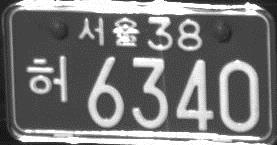0: (219, 58, 261, 133)
3: (131, 55, 170, 129), (145, 15, 173, 52)
4: (175, 58, 214, 132)
6: (86, 55, 124, 129)
8: (177, 19, 203, 52)
서울_O: (76, 15, 140, 47)
허: (25, 54, 70, 104)
